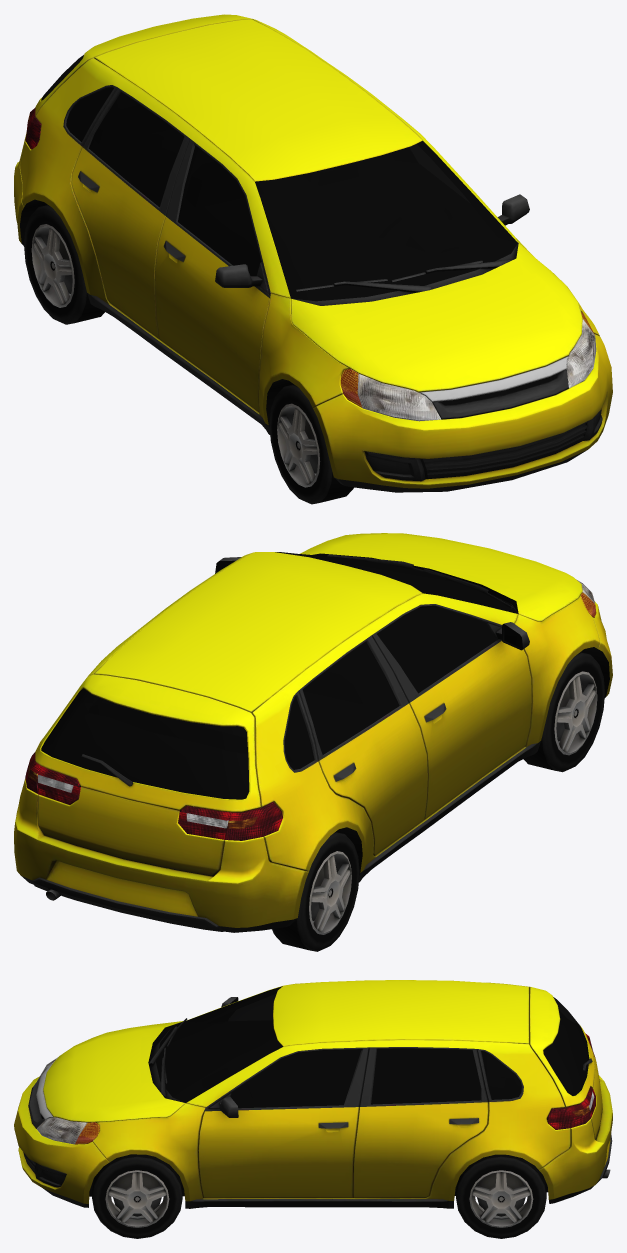
Rendered from hatchback.glb.
3 renders of one model, top to bottom at view 1: azimuth 30°, elevation 25°; view 2: azimuth 150°, elevation 25°; view 3: azimuth 270°, elevation 25°, orthographic. The views are drawn at different scales.
Visible parts, largest first — view 1: Hatchback Body_Body_0, Hatchback Body_Glass_0, Wheel_B002_Wheek_0, Wheel_B003_Wheek_0, Hatchback Body_Optics_0; view 2: Hatchback Body_Body_0, Hatchback Body_Glass_0, Wheel_B003_Wheek_0, Wheel_B002_Wheek_0, Hatchback Body_Optics_0; view 3: Hatchback Body_Body_0, Hatchback Body_Glass_0, Wheel_B_Wheek_0, Wheel_B001_Wheek_0, Hatchback Body_Optics_0.
Boxes of the visible parts, x1,y1,x2,y2 form: Hatchback Body_Body_0: (14, 14, 612, 492); Hatchback Body_Glass_0: (41, 55, 517, 301); Wheel_B002_Wheek_0: (269, 384, 354, 504); Wheel_B003_Wheek_0: (24, 205, 104, 324); Hatchback Body_Optics_0: (25, 108, 596, 421); Hatchback Body_Body_0: (14, 533, 612, 932); Hatchback Body_Glass_0: (41, 552, 517, 799); Wheel_B003_Wheek_0: (272, 832, 359, 951); Wheel_B002_Wheek_0: (523, 652, 604, 772); Hatchback Body_Optics_0: (25, 580, 596, 840); Hatchback Body_Body_0: (14, 980, 612, 1208); Hatchback Body_Glass_0: (156, 986, 589, 1108); Wheel_B_Wheek_0: (92, 1154, 182, 1238); Wheel_B001_Wheek_0: (456, 1154, 546, 1238); Hatchback Body_Optics_0: (37, 1033, 595, 1144).
Size of the model in its own units: 1.74 by 1.35 by 3.96.
Materials: 4 (3 with a texture image).
